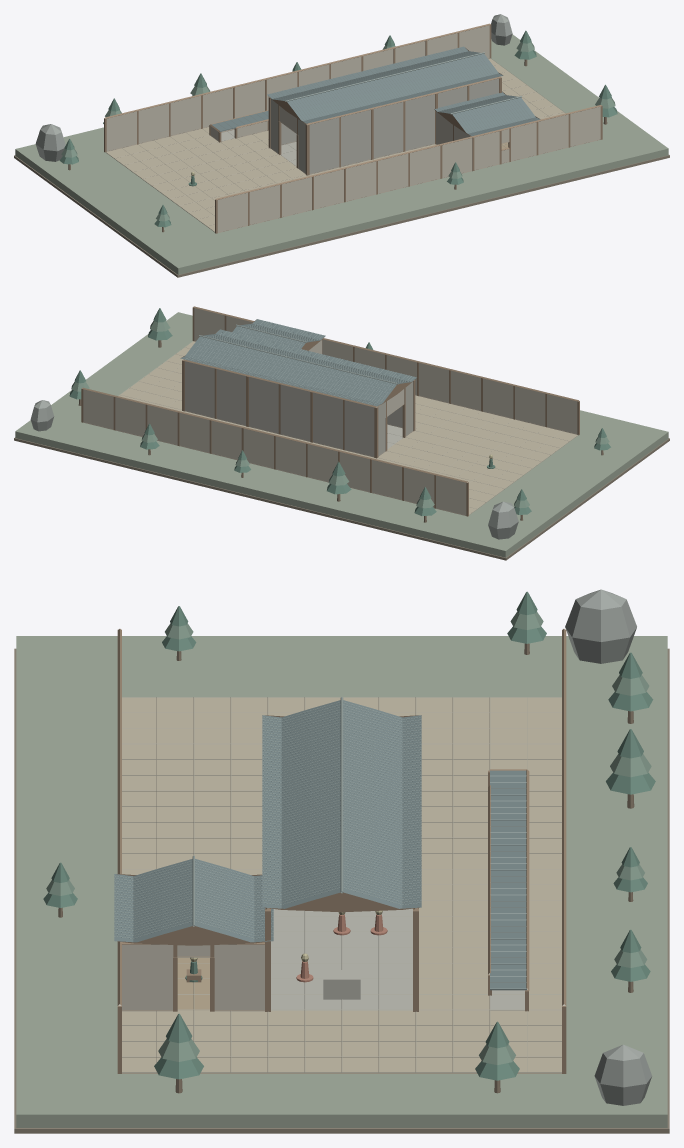
File: return-slope.glb
3 renders of one model, top to bottom at view 1: azimuth 30°, elevation 25°; view 2: azimuth 150°, elevation 25°; view 3: azimuth 270°, elevation 25°, orthographic. The views are drawn at different scales.
Parts seen in each view (by area): view 1: ground, walls, roofs, vegetation, grid, details; view 2: ground, walls, roofs, vegetation, grid, details; view 3: ground, roofs, walls, vegetation, grid, details, gm.
Part boxes in pixels (x1,y1,x2,y2): ground: (14,34,669,277); walls: (104,23,602,233); roofs: (212,46,540,136); vegetation: (59,30,617,232); grid: (106,58,564,231); details: (35,14,512,161); ground: (14,312,669,560); walls: (81,306,579,516); roofs: (180,319,416,416); vegetation: (69,308,610,522); grid: (118,341,577,514); details: (30,400,518,539); ground: (14,636,669,1133); roofs: (114,697,526,990); walls: (117,629,566,1073); vegetation: (43,591,655,1093); grid: (122,697,561,1072); details: (186,589,651,1105); gm: (185,910,387,982).
Size of the model in its own units: 46.79 by 6.43 by 26.97.
